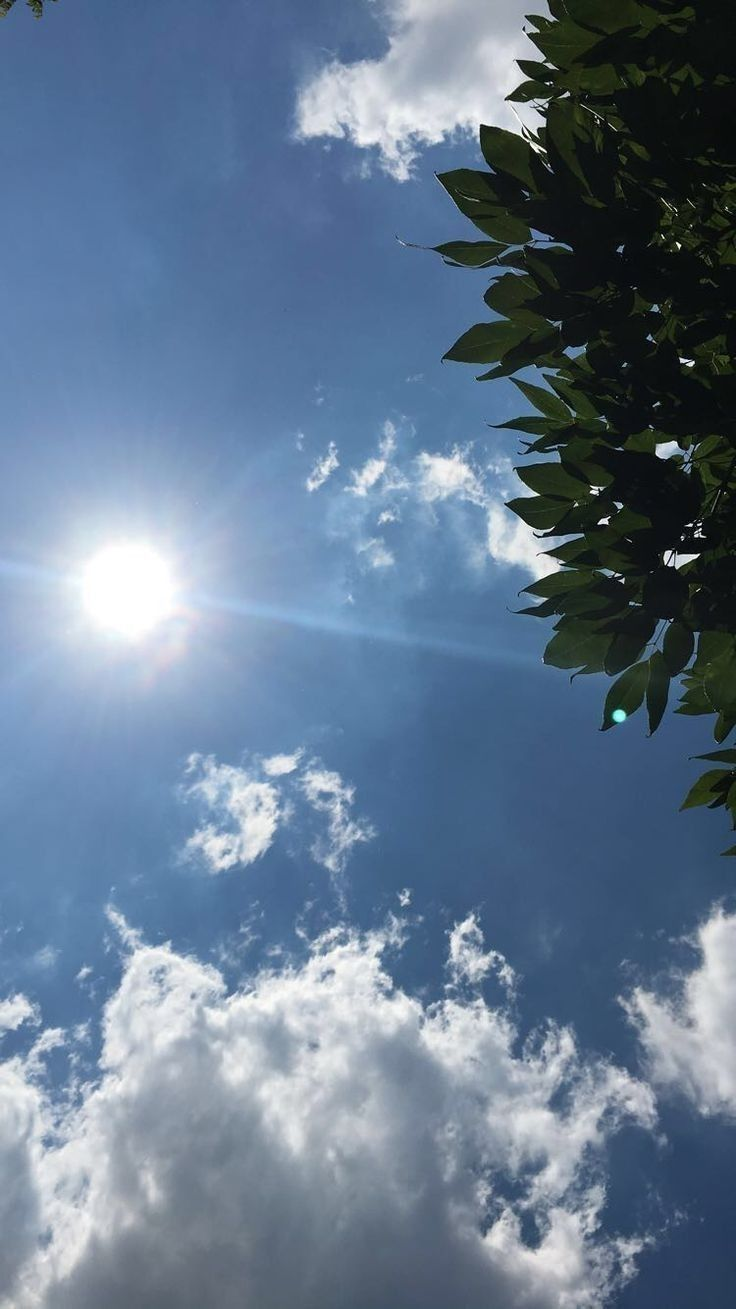sun: (38, 499, 213, 679)
